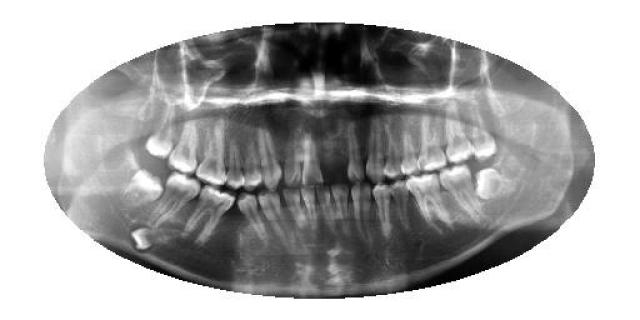Restorations: (474, 166, 516, 202)
